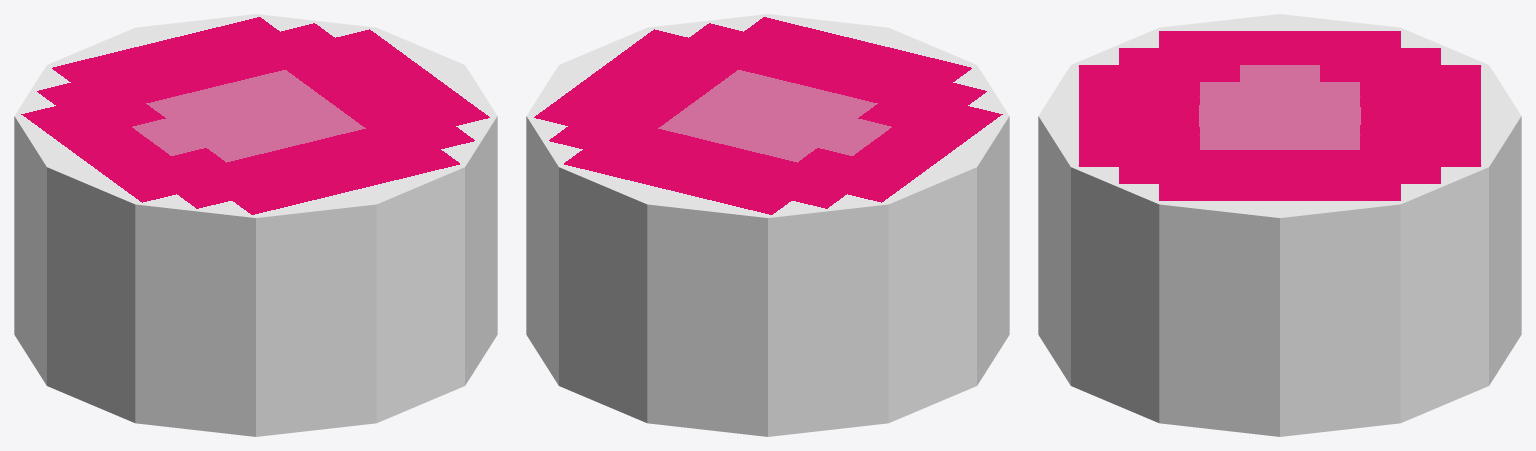
3 renders of one model, left to right at view 1: azimuth 30°, elevation 25°; view 2: azimuth 150°, elevation 25°; view 3: azimuth 270°, elevation 25°, orthographic.
Parts seen in each view (by area): view 1: cylinder; view 2: cylinder; view 3: cylinder.
Part boxes in pixels (bbox=[...]): cylinder: bbox=[14, 14, 497, 436]; cylinder: bbox=[526, 14, 1009, 436]; cylinder: bbox=[1038, 14, 1521, 436].
Size of the model in its own units: 0.75 by 0.375 by 0.75.
Materials: 1 (1 with a texture image).
